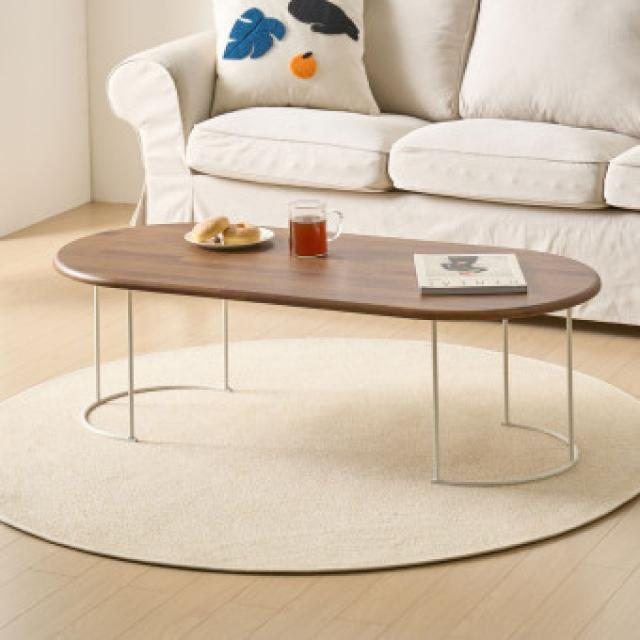Sofa: (106, 3, 640, 330)
Table: (51, 215, 598, 486)
